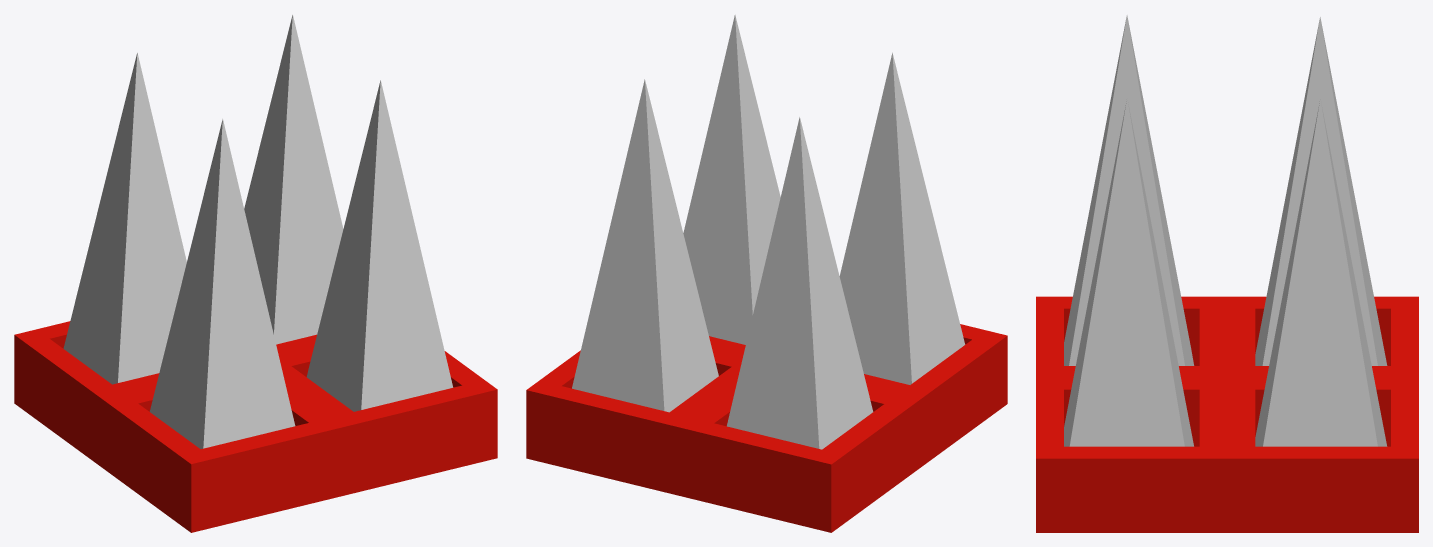
The model's file is Spikes_2.3.fbx.
3 renders of one model, left to right at view 1: azimuth 30°, elevation 25°; view 2: azimuth 150°, elevation 25°; view 3: azimuth 270°, elevation 25°, orthographic. The views are drawn at different scales.
Visible parts, largest first — view 1: Cone.001, Cube.001; view 2: Cone.001, Cube.001; view 3: Cone.001, Cube.001.
Part boxes in pixels (x1,y1,x2,y2): Cone.001: (63, 14, 453, 448); Cube.001: (14, 321, 497, 532); Cone.001: (572, 14, 965, 449); Cube.001: (526, 324, 1007, 532); Cone.001: (1064, 15, 1387, 446); Cube.001: (1036, 296, 1418, 532).
Size of the model in its own units: 200 by 228 by 200.
